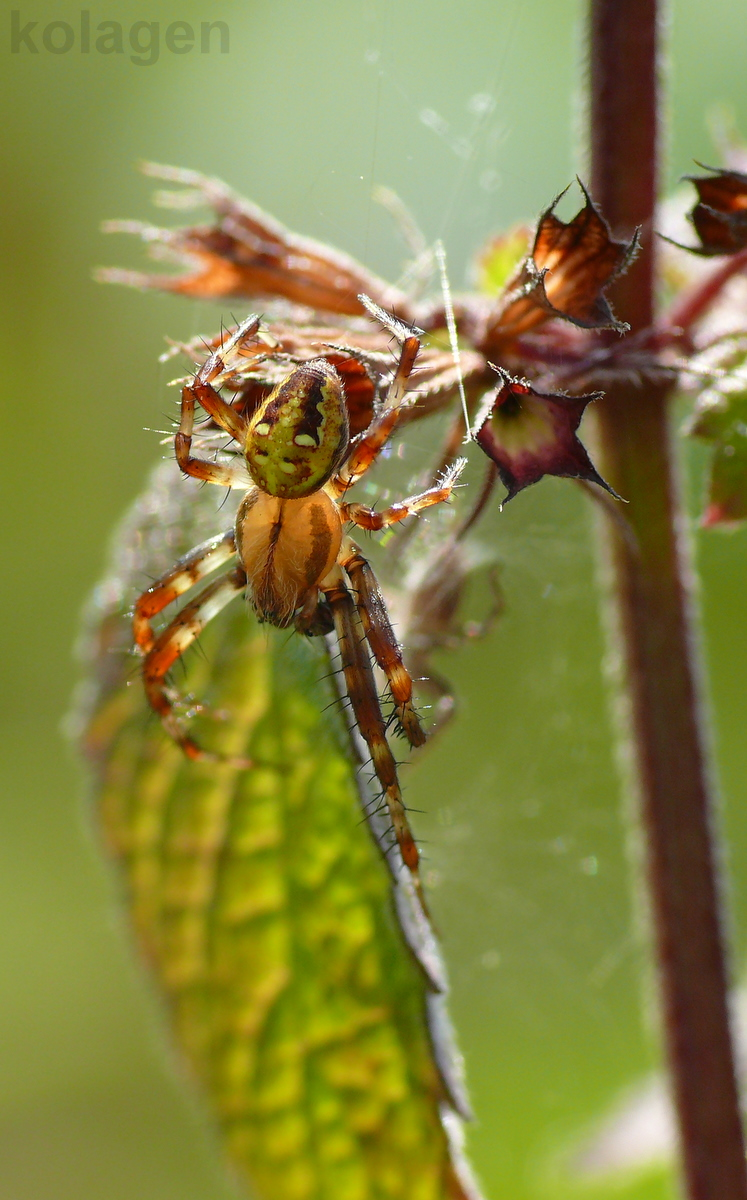spider: (42, 261, 548, 885)
